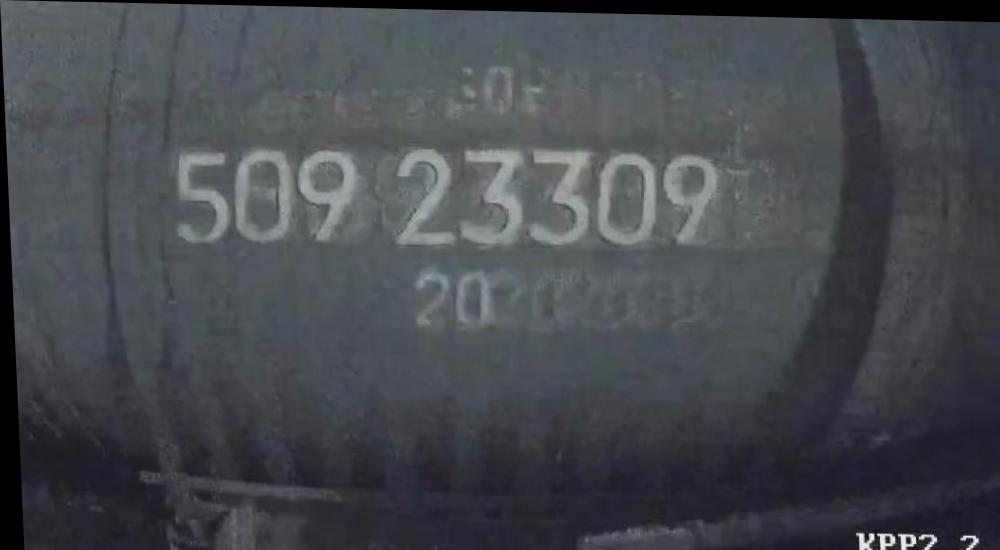Wagon-number: (167, 135, 727, 257)
